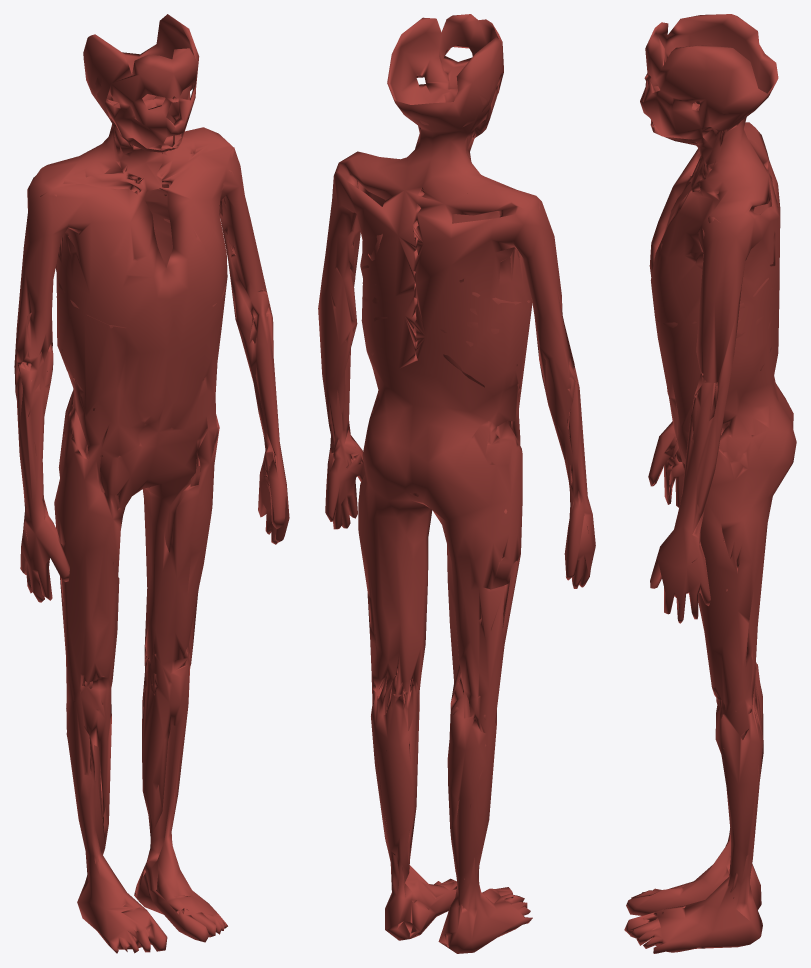
Rendered from pediatric_child_10y_female.muscular.LOD3.glb.
The picture shows the model from 3 angles, left to right: view 1: azimuth 30°, elevation 25°; view 2: azimuth 150°, elevation 25°; view 3: azimuth 270°, elevation 25°; orthographic projection.
Parts seen in each view (by area): view 1: PEDIATRIC.CHILD_10Y.FEMALE.MUSCULAR.MUSCLE; view 2: PEDIATRIC.CHILD_10Y.FEMALE.MUSCULAR.MUSCLE; view 3: PEDIATRIC.CHILD_10Y.FEMALE.MUSCULAR.MUSCLE.
Part boxes in pixels (x1=…): PEDIATRIC.CHILD_10Y.FEMALE.MUSCULAR.MUSCLE: x1=14, y1=14, x2=289, y2=953; PEDIATRIC.CHILD_10Y.FEMALE.MUSCULAR.MUSCLE: x1=318, y1=14, x2=595, y2=953; PEDIATRIC.CHILD_10Y.FEMALE.MUSCULAR.MUSCLE: x1=624, y1=14, x2=796, y2=953.
Bounding box in the file's own units: 0.404 × 1.35 × 0.235.
